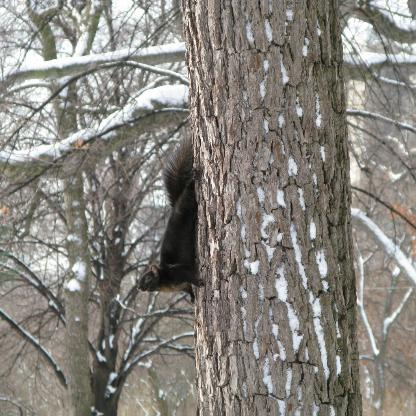Squirrel: (136, 132, 200, 304)
